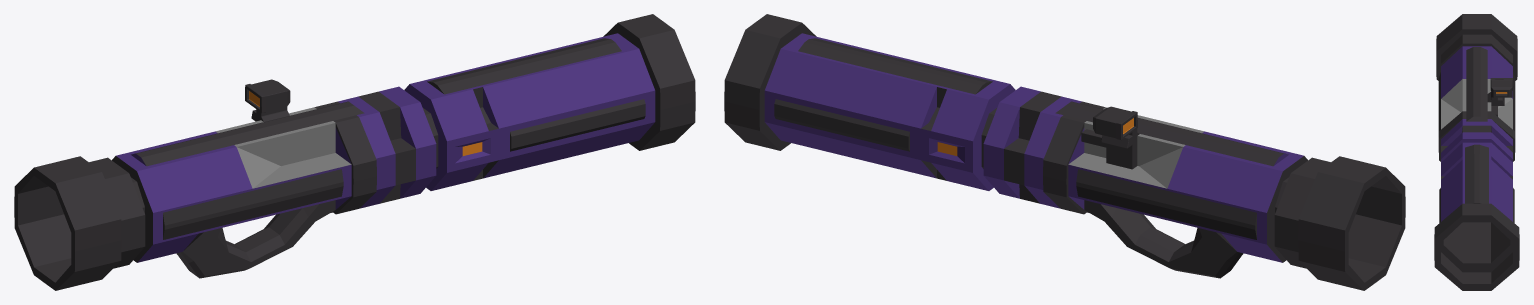
File: Lanzamisiles.fbx
The picture shows the model from 3 angles, left to right: view 1: azimuth 30°, elevation 25°; view 2: azimuth 150°, elevation 25°; view 3: azimuth 270°, elevation 25°; orthographic projection. The views are drawn at different scales.
Parts seen in each view (by area): view 1: Cube.091; view 2: Cube.091; view 3: Cube.091.
Boxes of the visible parts, x1=… form: Cube.091: x1=14, y1=14, x2=695, y2=290; Cube.091: x1=724, y1=14, x2=1405, y2=290; Cube.091: x1=1434, y1=14, x2=1519, y2=290.
Bounding box in the file's own units: 0.8381 × 0.2 × 0.149.
